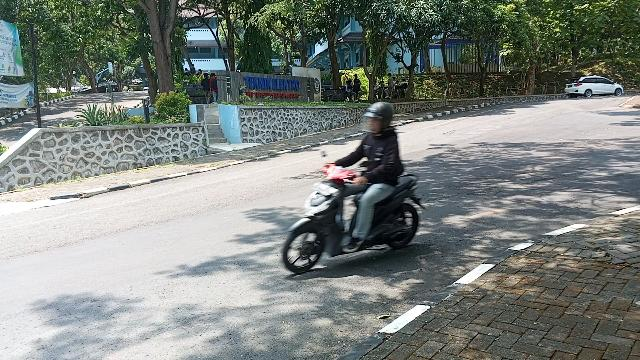helm: (362, 103, 396, 136)
motor: (283, 149, 429, 277)
